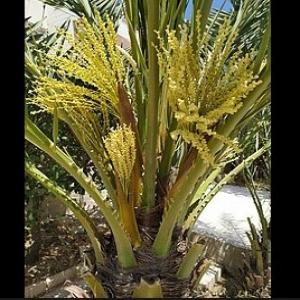palm tree: (23, 0, 270, 296)
